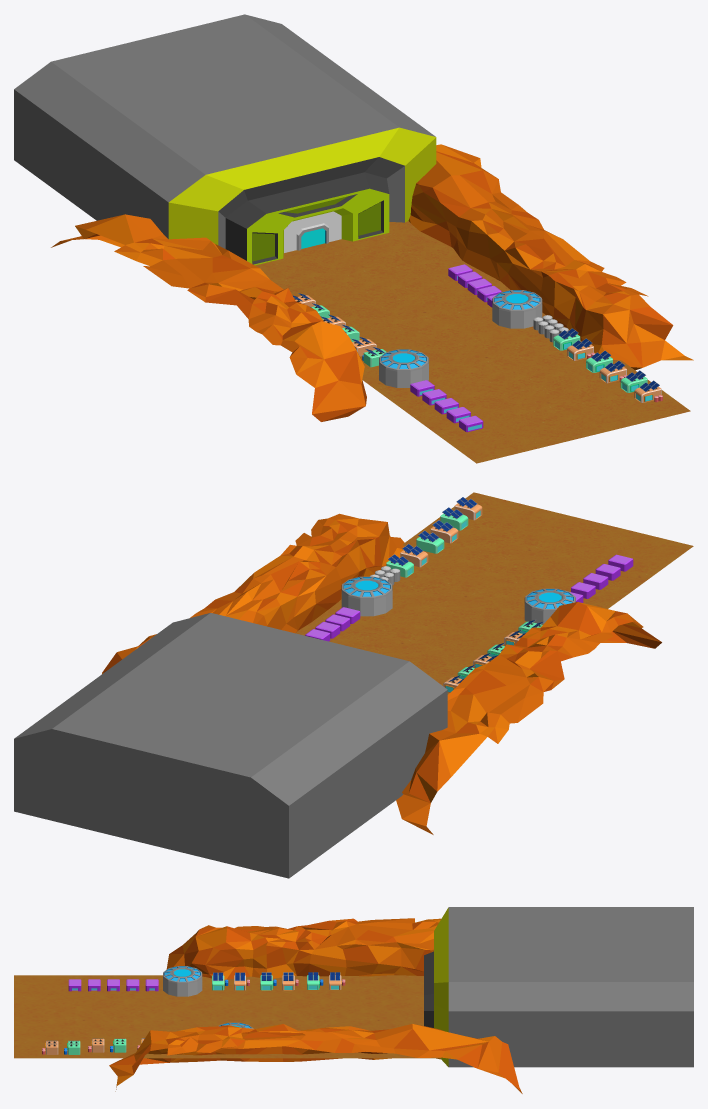
The model's file is floor2Mesh.glb.
The picture shows the model from 3 angles, top to bottom: view 1: azimuth 30°, elevation 25°; view 2: azimuth 150°, elevation 25°; view 3: azimuth 270°, elevation 25°; orthographic projection. The views are drawn at different scales.
Parts seen in each view (by area): view 1: 2floorMarsOnePiece; view 2: 2floorMarsOnePiece; view 3: 2floorMarsOnePiece.
Boxes of the visible parts, x1,y1,x2,y2 form: 2floorMarsOnePiece: (14, 14, 693, 463); 2floorMarsOnePiece: (14, 492, 693, 878); 2floorMarsOnePiece: (14, 907, 693, 1093).
Size of the model in its own units: 347 by 92.27 by 692.
Materials: 2 (2 with a texture image).
